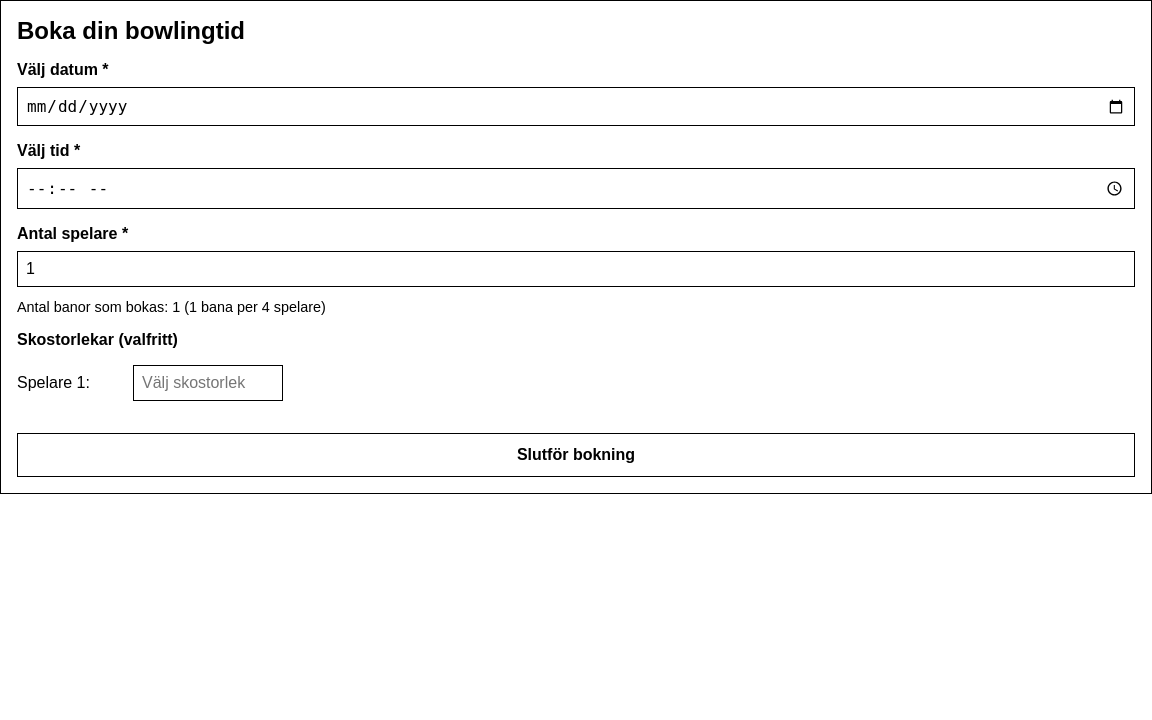
BookingPage › User Story 3: Ta bort skostorleksfält › ska kunna ta bort skostorlek för flera spelare
The width and height of the screenshot is (1152, 720).
Replace the text in the number field with test id "players-input" with "2" at (576, 269), box [17,251,1135,287]
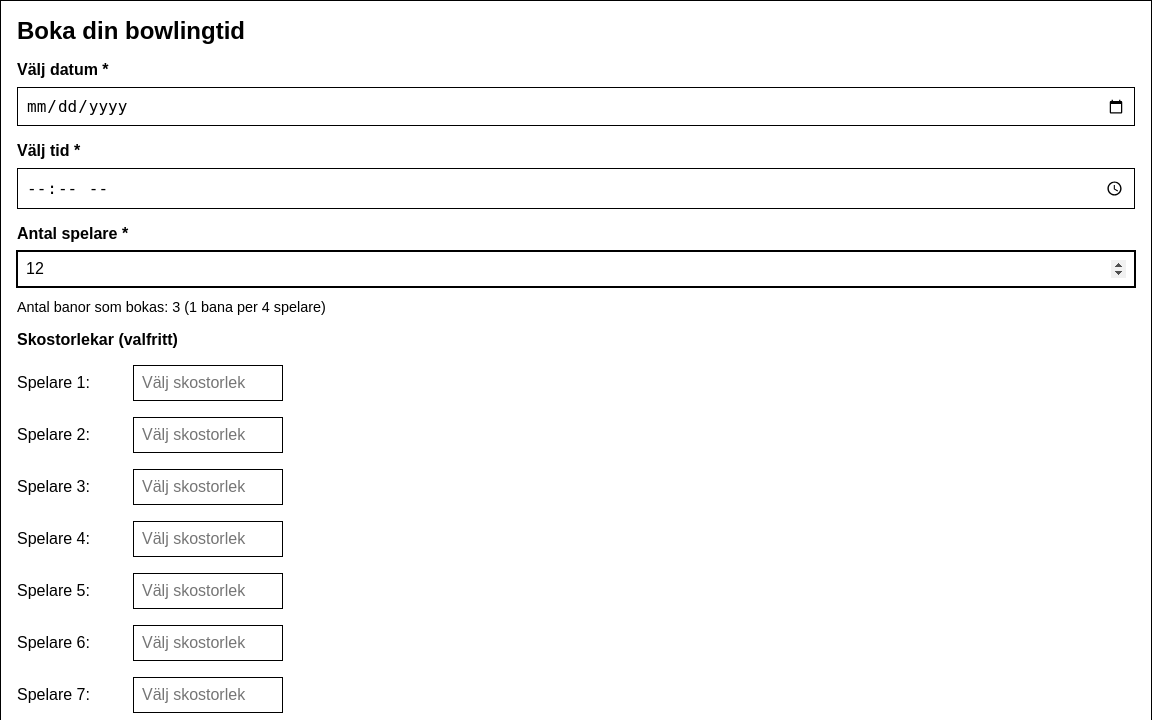
Type "40" into the number field with test id "shoe-size-input-1" at (208, 383), box [133,365,283,401]
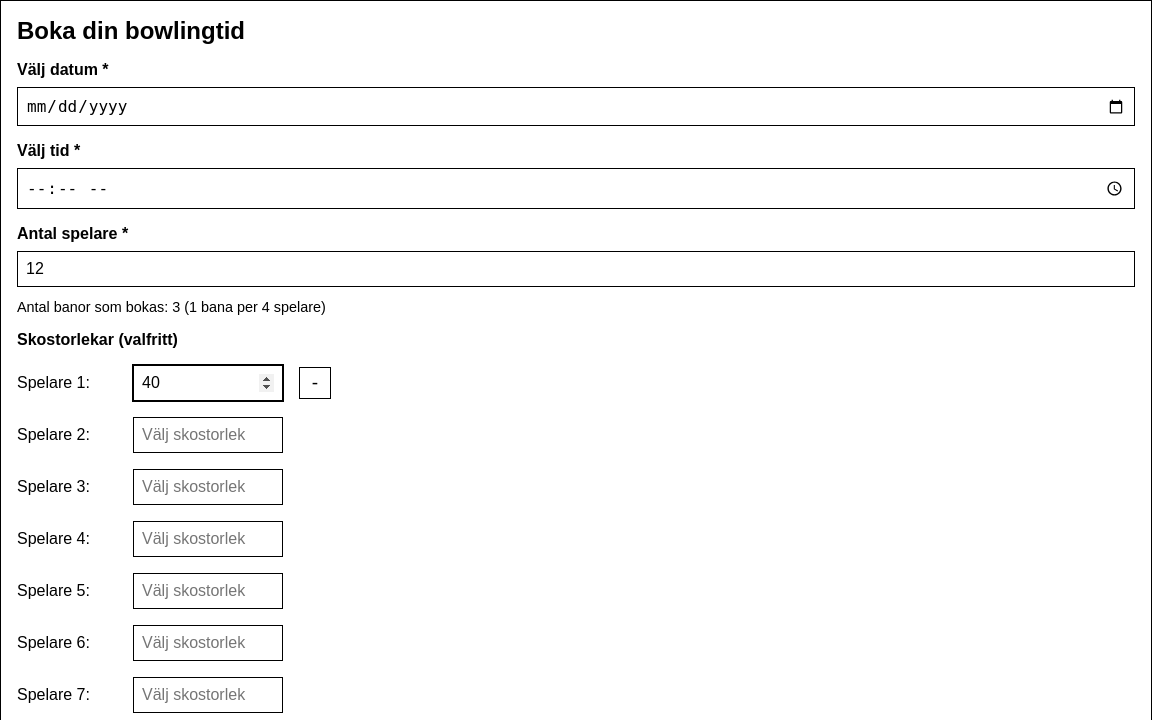
Type "42" into the number field with test id "shoe-size-input-2" at (208, 435), box [133,417,283,453]
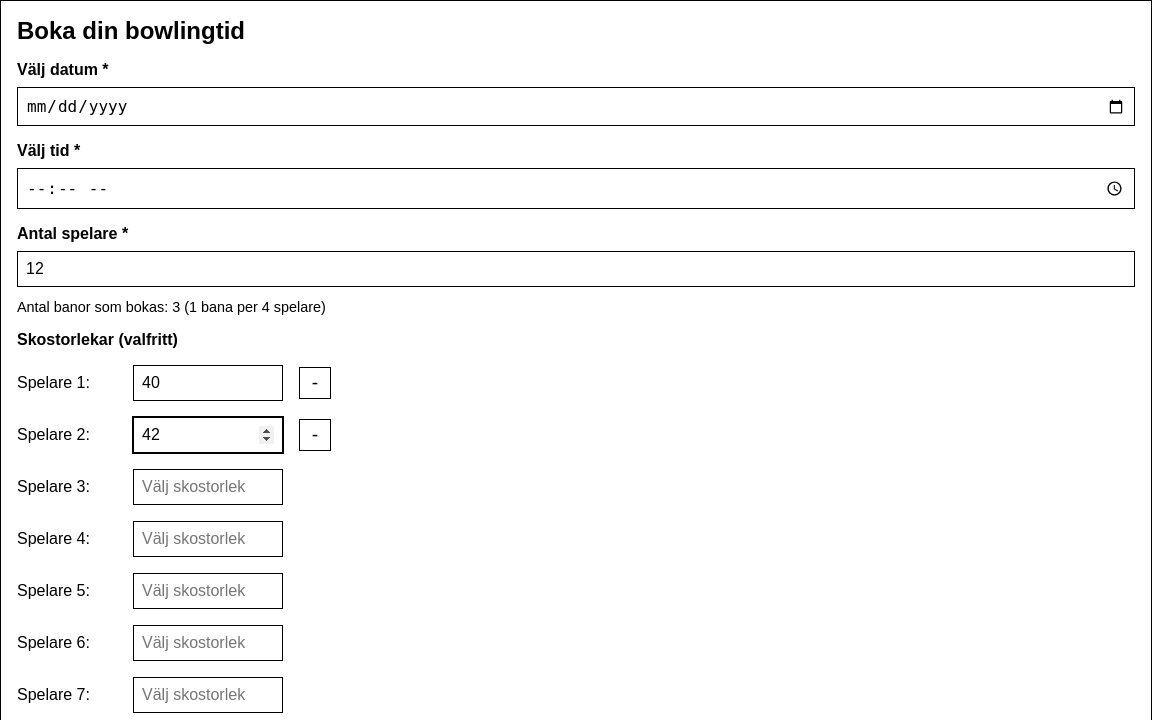
Click the button with test id "remove-shoe-1" at (315, 383), box [299,367,331,399]
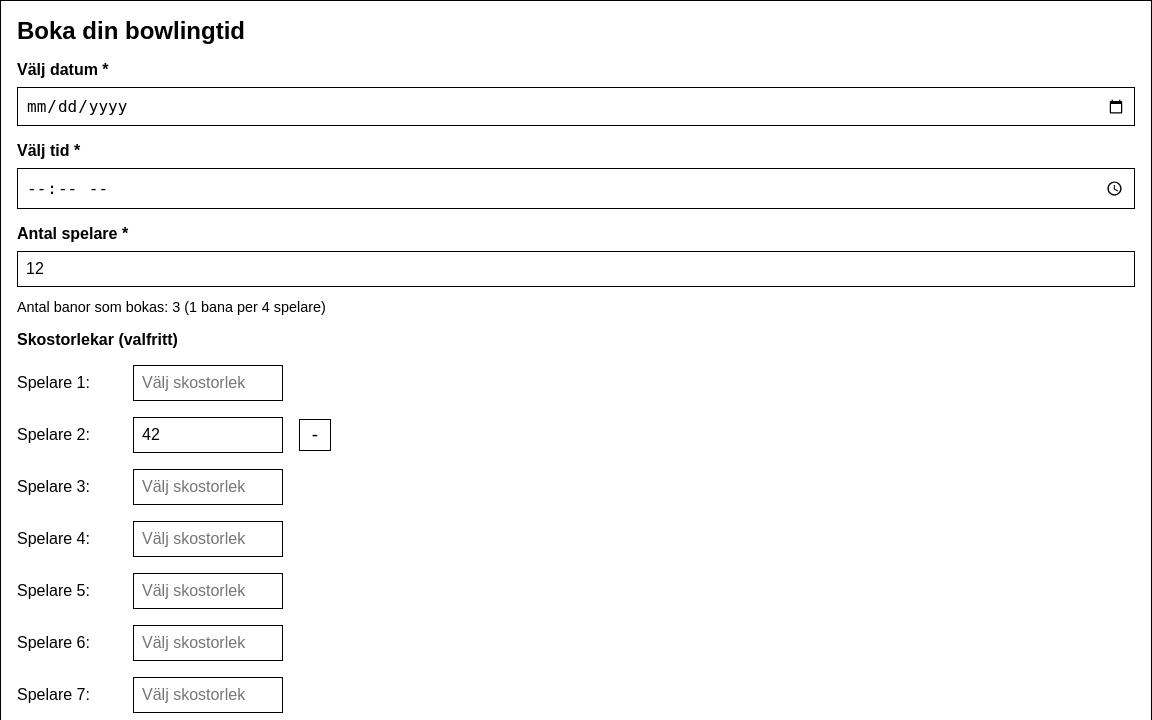
Click the button with test id "remove-shoe-2" at (315, 435), box [299,419,331,451]
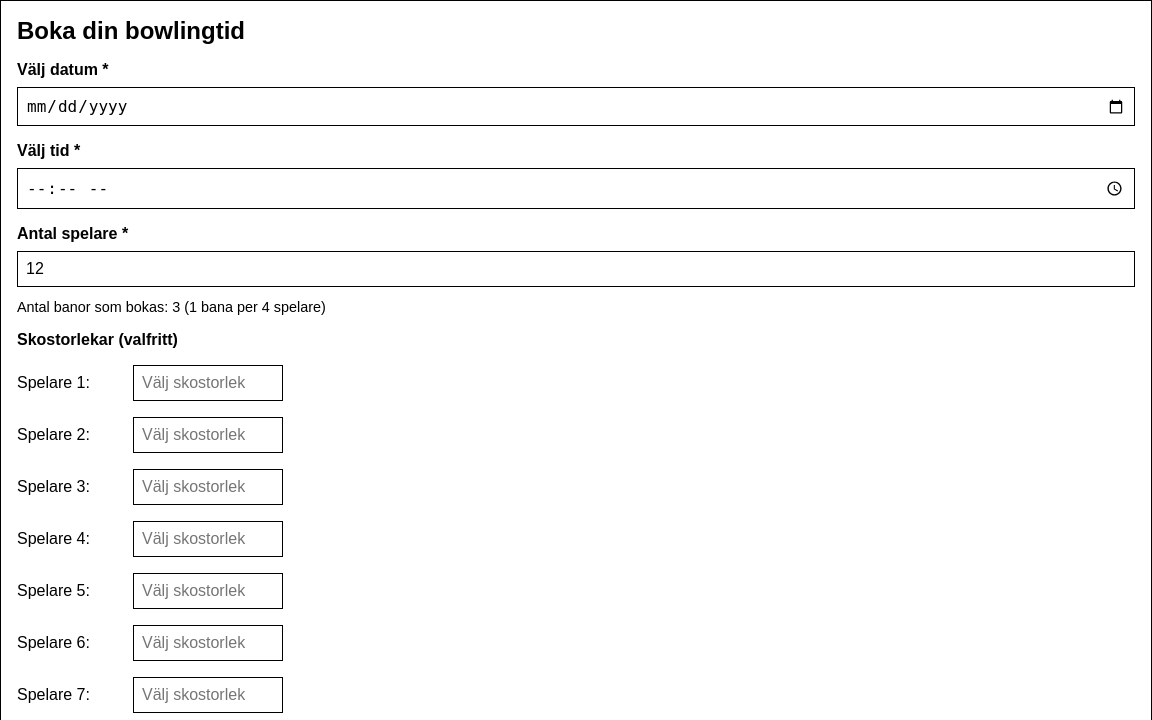
Expected: the number field with test id "shoe-size-input-1" is not empty, [133,365,283,401]
Expected: the number field with test id "shoe-size-input-2" is not empty, [133,417,283,453]
